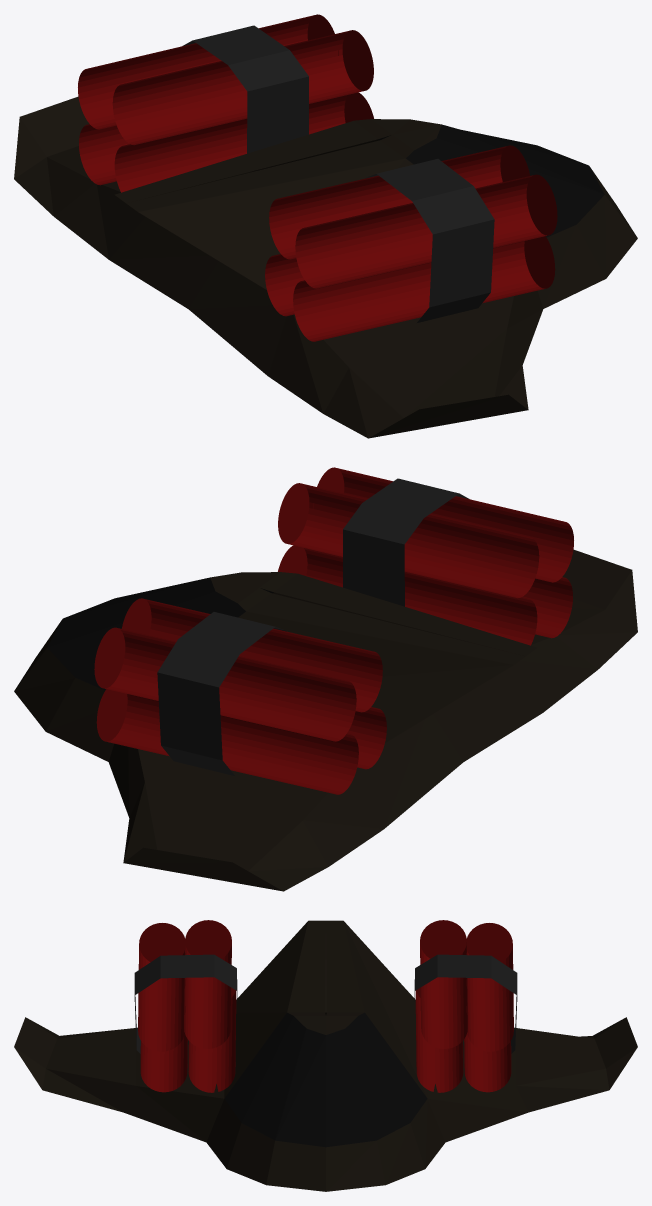
The model's file is suicide_bomber.obj.
The picture shows the model from 3 angles, top to bottom: view 1: azimuth 30°, elevation 25°; view 2: azimuth 150°, elevation 25°; view 3: azimuth 270°, elevation 25°; orthographic projection. The views are drawn at different scales.
Visible parts, largest first — view 1: Cube_Cube_Material.002, Cube_Cube_Material.003, Cube_Cube_Material.005, Cube_Cube_Material.004; view 2: Cube_Cube_Material.002, Cube_Cube_Material.003, Cube_Cube_Material.005, Cube_Cube_Material.004; view 3: Cube_Cube_Material.002, Cube_Cube_Material.003, Cube_Cube_Material.004, Cube_Cube_Material.005.
Boxes of the visible parts, left/top/right/bottom form: Cube_Cube_Material.002: left=14, top=96, right=637, bottom=438; Cube_Cube_Material.003: left=78, top=14, right=557, bottom=341; Cube_Cube_Material.005: left=182, top=25, right=494, bottom=322; Cube_Cube_Material.004: left=378, top=124, right=604, bottom=237; Cube_Cube_Material.002: left=14, top=549, right=637, bottom=891; Cube_Cube_Material.003: left=94, top=467, right=573, bottom=794; Cube_Cube_Material.005: left=157, top=478, right=469, bottom=775; Cube_Cube_Material.004: left=47, top=577, right=273, bottom=690; Cube_Cube_Material.002: left=14, top=920, right=637, bottom=1191; Cube_Cube_Material.003: left=138, top=920, right=513, bottom=1092; Cube_Cube_Material.004: left=224, top=1012, right=427, bottom=1147; Cube_Cube_Material.005: left=134, top=954, right=517, bottom=1053.
Bounding box in the file's own units: 3.56 × 1.54 × 5.22.
